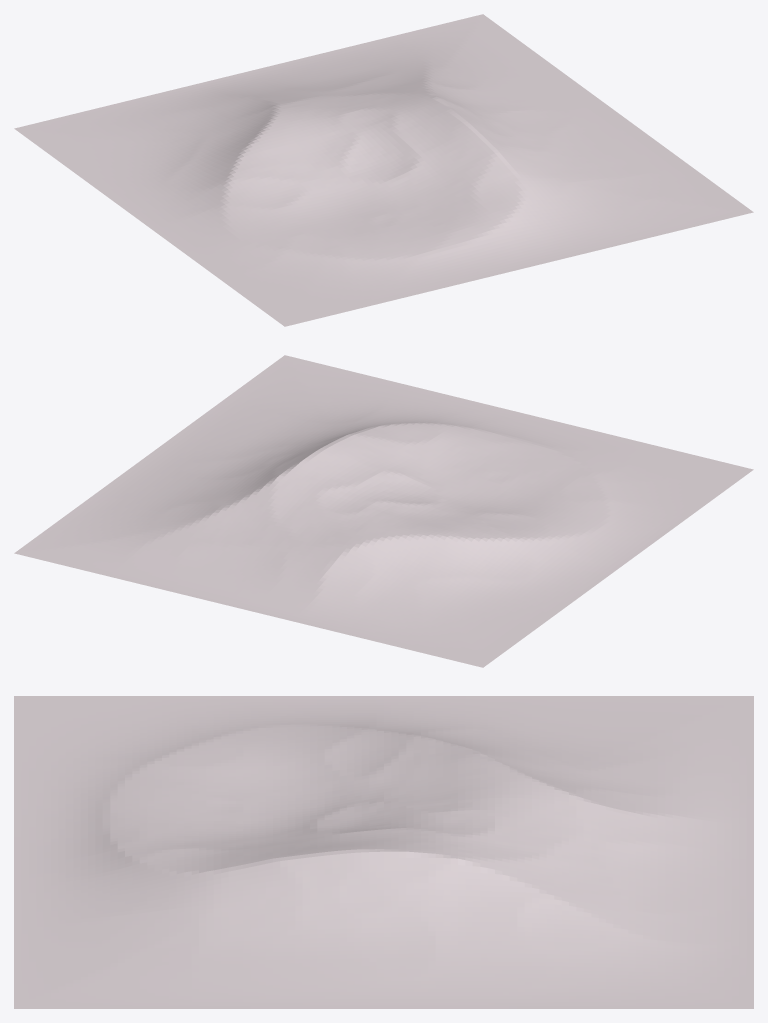
File: Main_Terrain_Snow.fbx
The picture shows the model from 3 angles, top to bottom: view 1: azimuth 30°, elevation 25°; view 2: azimuth 150°, elevation 25°; view 3: azimuth 270°, elevation 25°; orthographic projection. The views are drawn at different scales.
Visible parts, largest first — view 1: Terrain; view 2: Terrain; view 3: Terrain.
Part boxes in pixels (bbox=[...]): Terrain: bbox=[14, 14, 753, 326]; Terrain: bbox=[14, 355, 753, 667]; Terrain: bbox=[14, 696, 753, 1008].
Size of the model in its own units: 10000 by 761 by 10000.
Materials: 1 (1 with a texture image).
